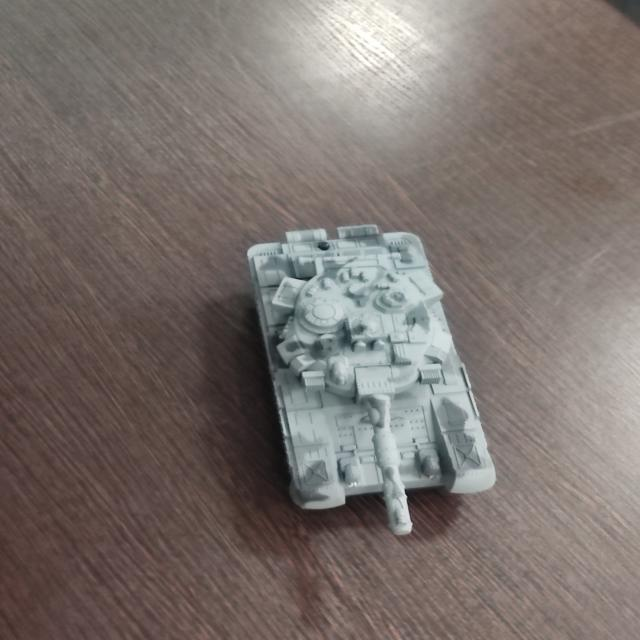tank: (240, 225, 503, 536)
